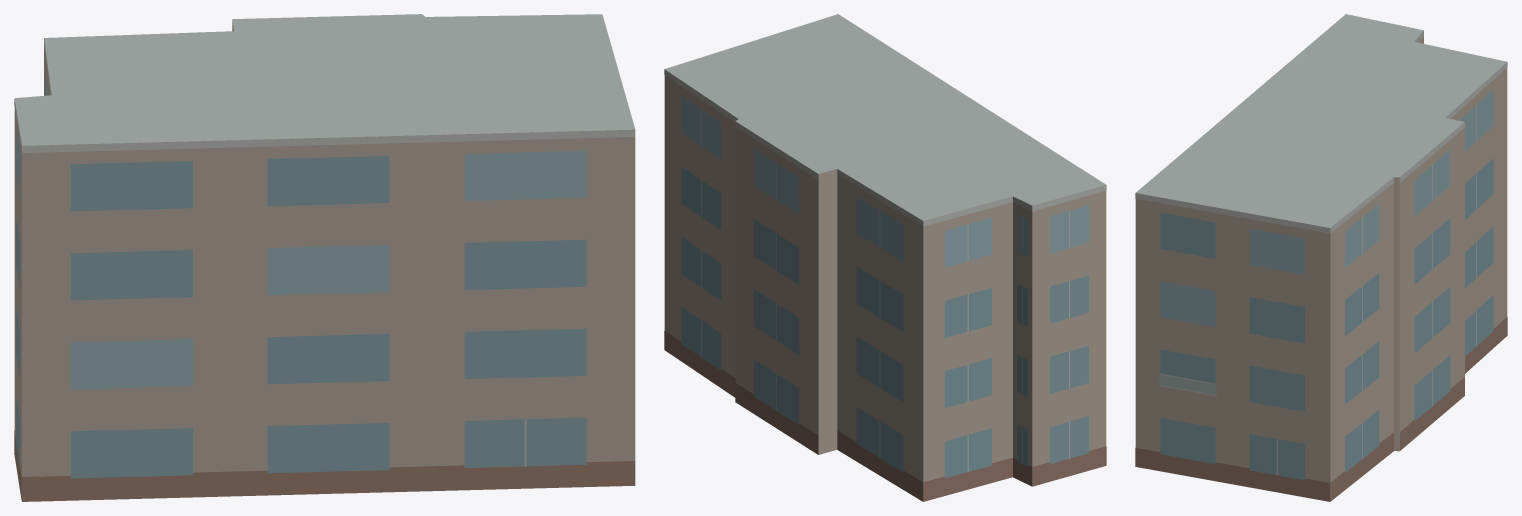
File: survey-upis-32821178.glb
The picture shows the model from 3 angles, left to right: view 1: azimuth 30°, elevation 25°; view 2: azimuth 150°, elevation 25°; view 3: azimuth 270°, elevation 25°; orthographic projection. The views are drawn at different scales.
Parts seen in each view (by area): view 1: survey-upis-32821178.tmp; view 2: survey-upis-32821178.tmp; view 3: survey-upis-32821178.tmp.
Part boxes in pixels (x1,y1,x2,y2): survey-upis-32821178.tmp: [14, 14, 635, 501]; survey-upis-32821178.tmp: [664, 14, 1106, 501]; survey-upis-32821178.tmp: [1135, 14, 1507, 501].
Bounding box in the file's own units: 20.13 × 12 × 14.78.
